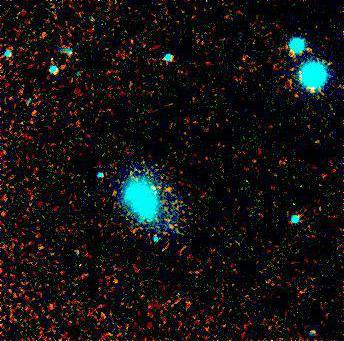star: (153, 175, 183, 205)
